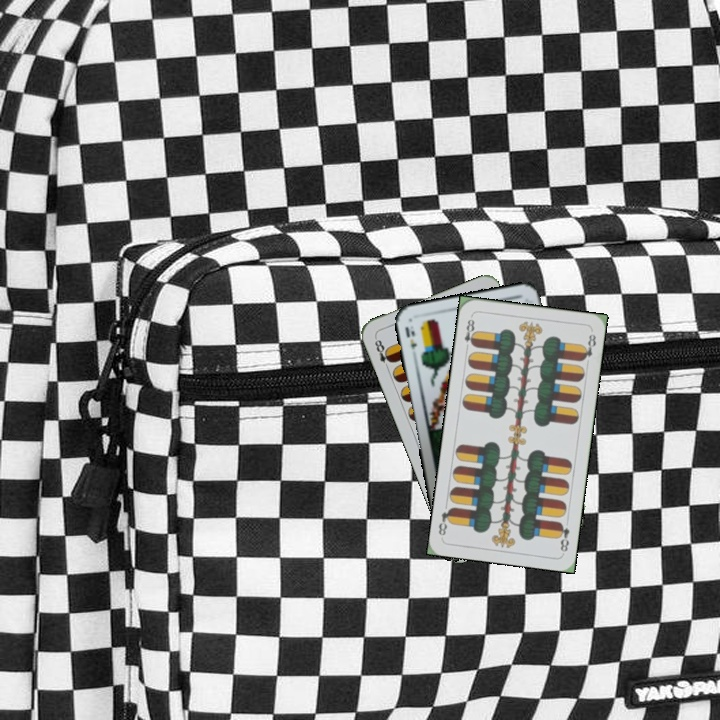E8: (370, 333, 395, 372), (460, 312, 479, 353), (554, 518, 572, 555)
EK: (401, 323, 420, 352)
